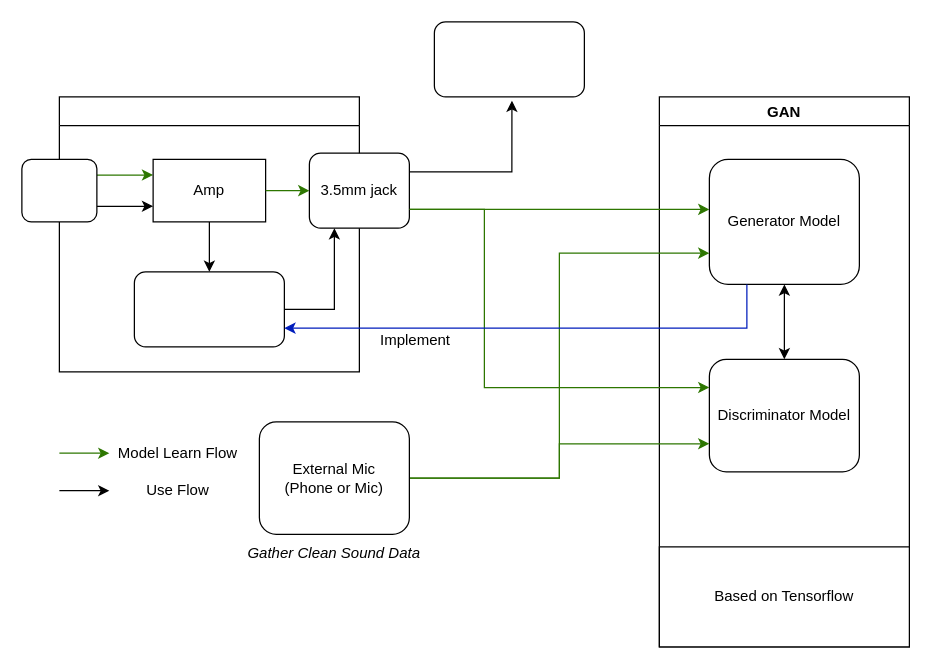
Image size: 931x669. Some labels were removed from this diagram. Each missing label, with the box of its shape:
Earphone: (433, 21, 584, 97)
Hardware: (58, 96, 359, 372)
Mic: (21, 158, 97, 222)
Processor?: (133, 271, 284, 347)
